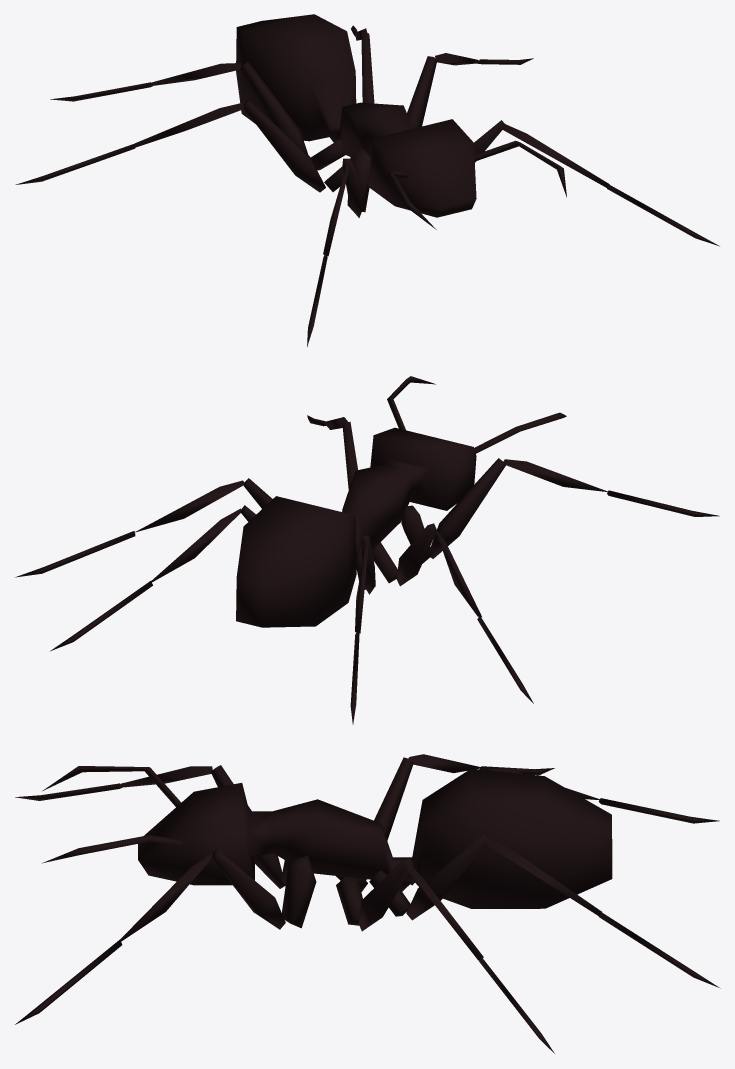
File: Ant.glb
The picture shows the model from 3 angles, top to bottom: view 1: azimuth 30°, elevation 25°; view 2: azimuth 150°, elevation 25°; view 3: azimuth 270°, elevation 25°; orthographic projection. The views are drawn at different scales.
Parts seen in each view (by area): view 1: Ant; view 2: Ant; view 3: Ant.
Boxes of the visible parts, box(x1,y1,x2,y2) form: Ant: box(15, 14, 719, 346); Ant: box(14, 376, 719, 724); Ant: box(15, 754, 720, 1053).
Size of the model in its own units: 0.224 by 0.0449 by 0.2334.
1 material, 1 textured.
